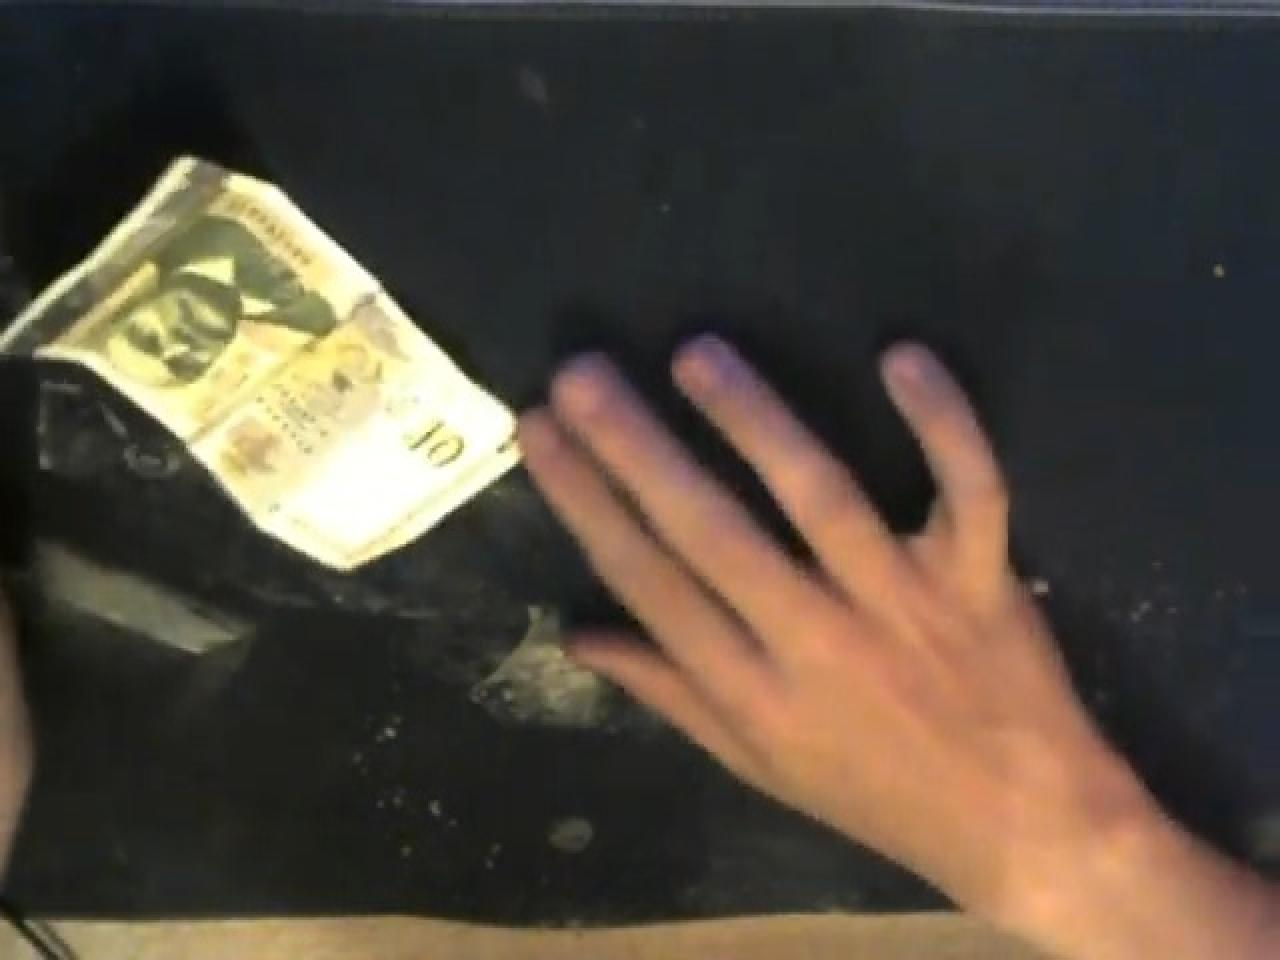10leva: (0, 152, 522, 571)
